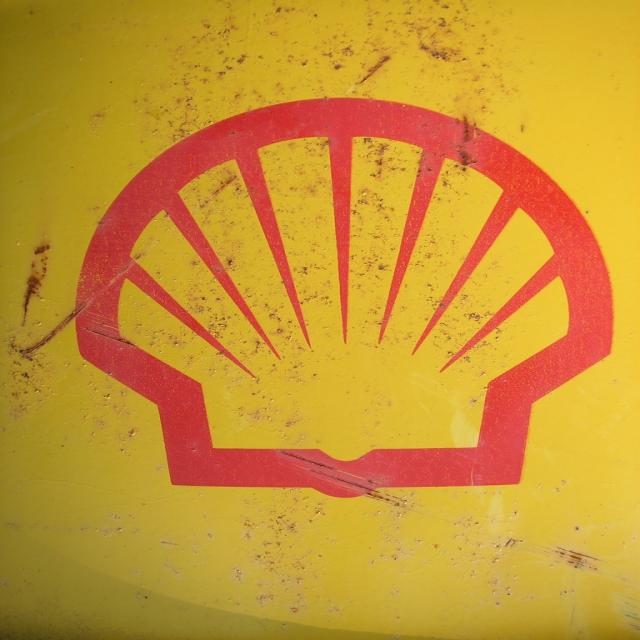shell: (72, 94, 621, 504)
